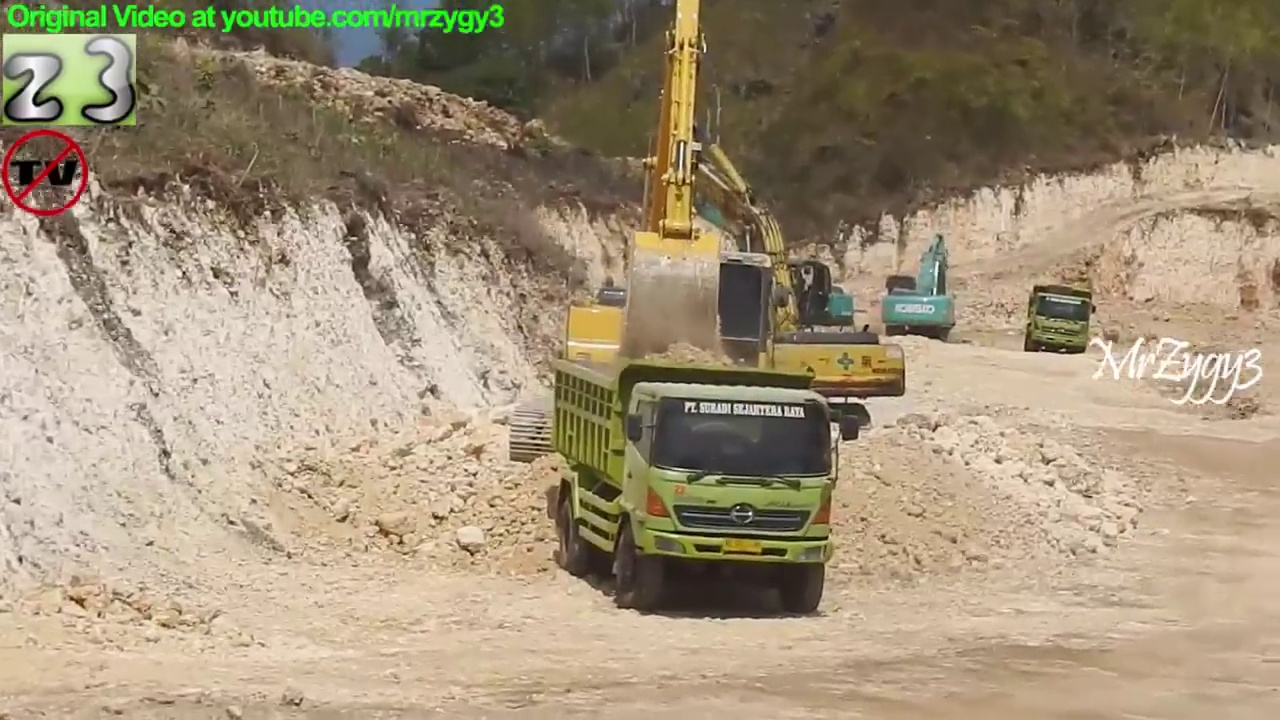excavator: (505, 1, 846, 478), (616, 136, 912, 454), (661, 175, 858, 372), (879, 230, 962, 347)
truck: (546, 354, 867, 617), (1023, 279, 1103, 359)
